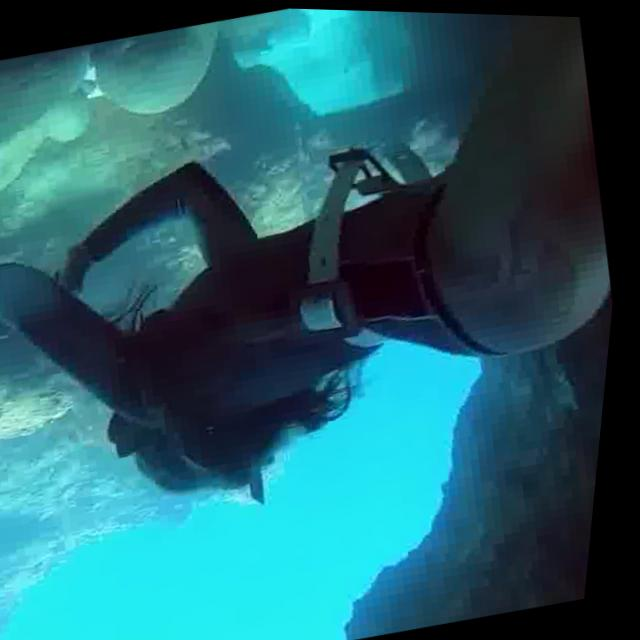human: (0, 0, 640, 636)
